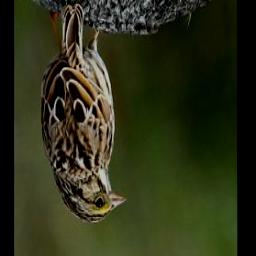Sparrow: (40, 3, 129, 225)
